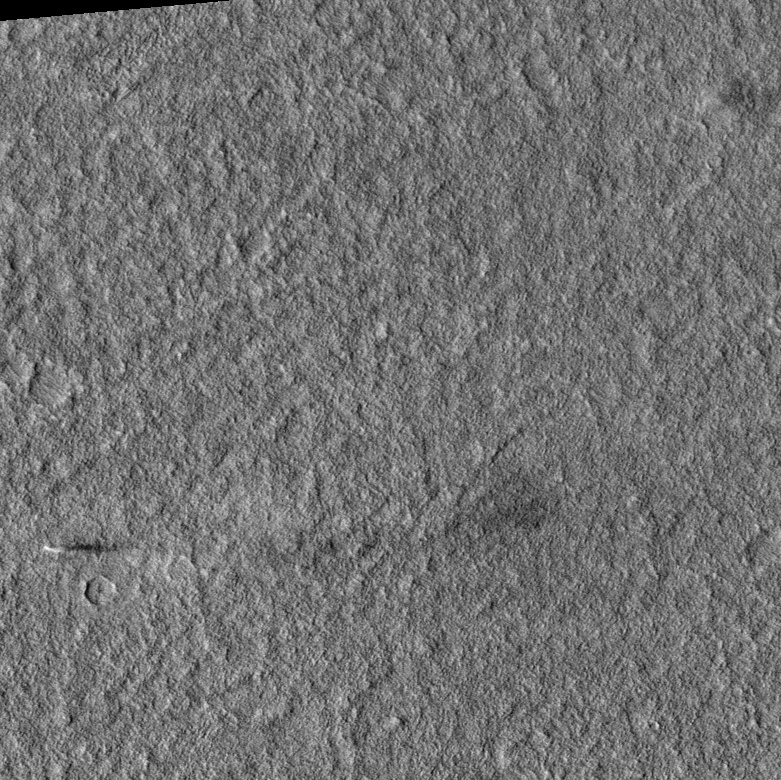dust_devil: (42, 539, 121, 556)
